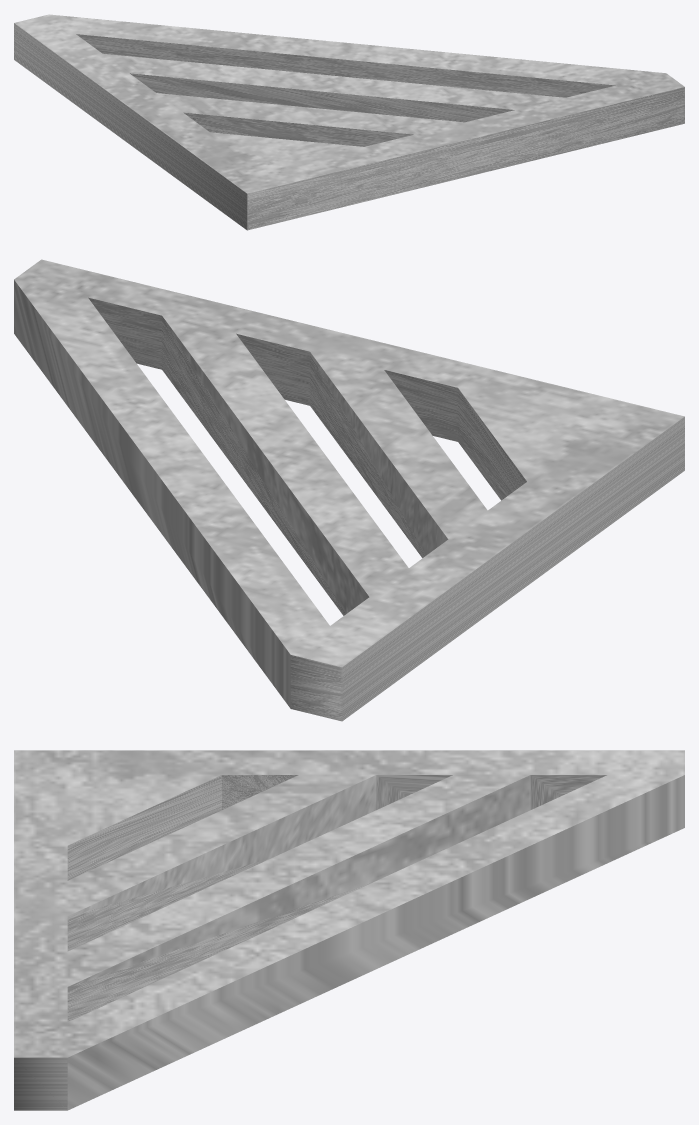
File: shower shelf.FBX
3 renders of one model, top to bottom at view 1: azimuth 30°, elevation 25°; view 2: azimuth 150°, elevation 25°; view 3: azimuth 270°, elevation 25°, orthographic. The views are drawn at different scales.
Visible parts, largest first — view 1: Box006; view 2: Box006; view 3: Box006.
Boxes of the visible parts, bbox=[...] form: Box006: bbox=[14, 14, 684, 230]; Box006: bbox=[14, 259, 684, 721]; Box006: bbox=[14, 750, 684, 1110].
Bounding box in the file's own units: 48.99 × 3.94 × 45.19.
Materials: 1 (1 with a texture image).
